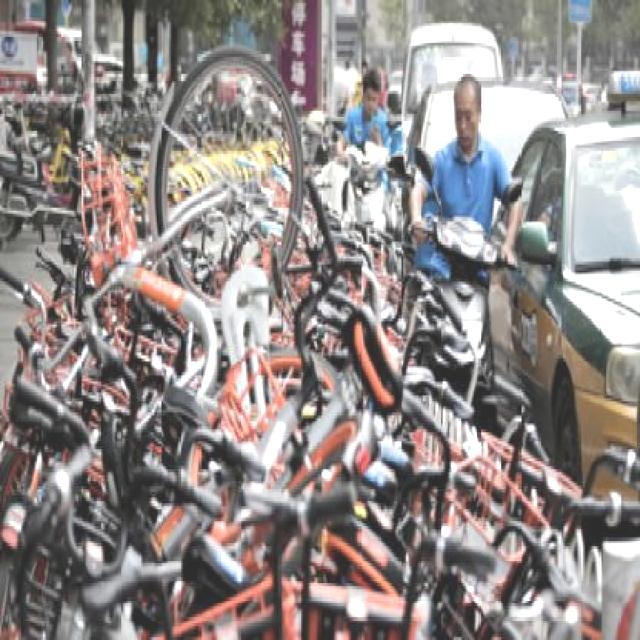Without Helmet: (450, 72, 488, 153), (359, 56, 383, 122)
